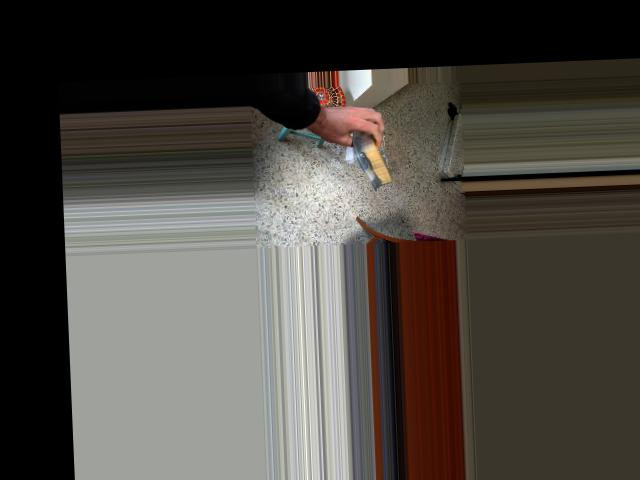cheese: (344, 116, 397, 195)
